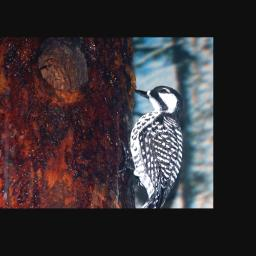Woodpecker: (116, 81, 188, 208)
